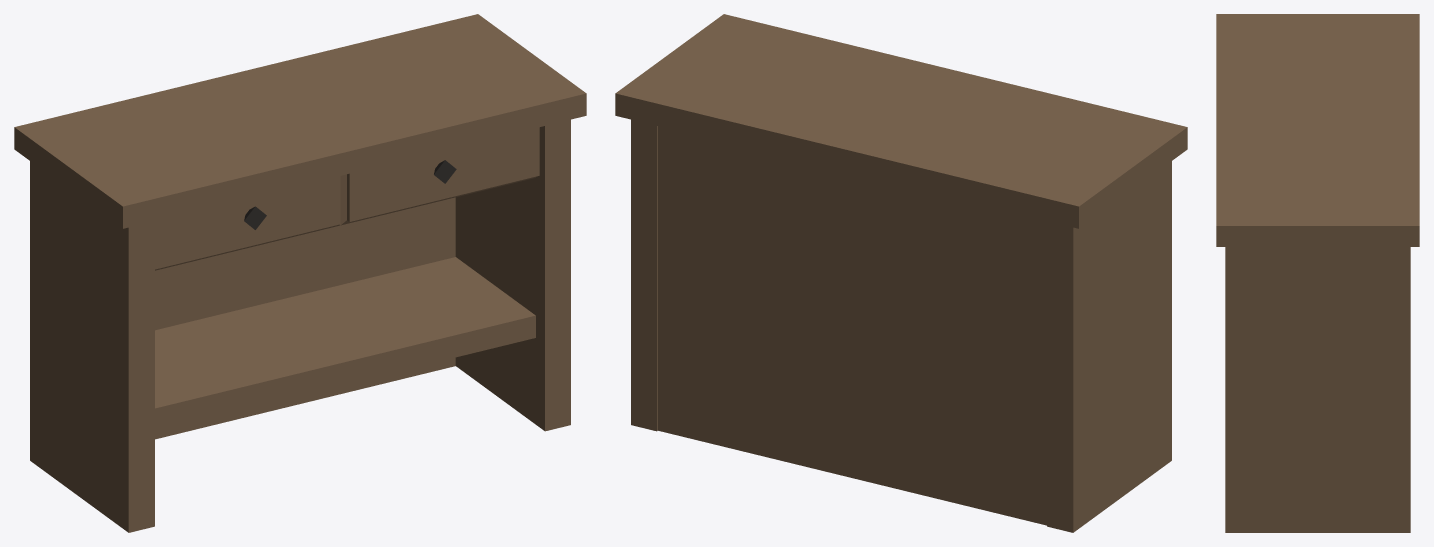
Rendered from Drawer_4.fbx.
3 renders of one model, left to right at view 1: azimuth 30°, elevation 25°; view 2: azimuth 150°, elevation 25°; view 3: azimuth 270°, elevation 25°, orthographic. The views are drawn at different scales.
Parts seen in each view (by area): view 1: polySurface2331; view 2: polySurface2331; view 3: polySurface2331.
Part boxes in pixels (bbox=[...]): polySurface2331: bbox=[14, 14, 586, 532]; polySurface2331: bbox=[615, 14, 1187, 532]; polySurface2331: bbox=[1216, 14, 1419, 532].
Bounding box in the file's own units: 1.37 × 0.9378 × 0.5548.
1 material, 1 textured.
